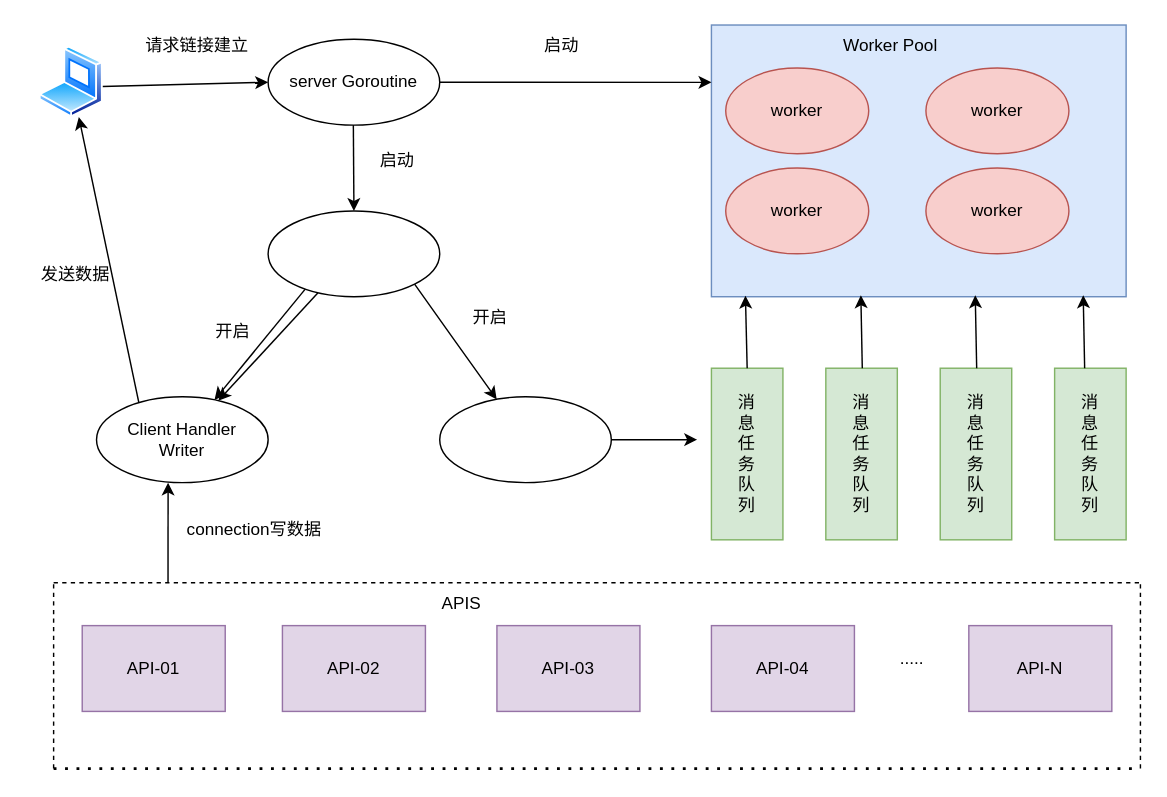
This 1167x797 diagram has some shape labels left out. The centre of each missing label's shape, as x and y in pixels:
Client Handler Goroutine: the point at 353,253
Client Handler Reader: the point at 524,439
